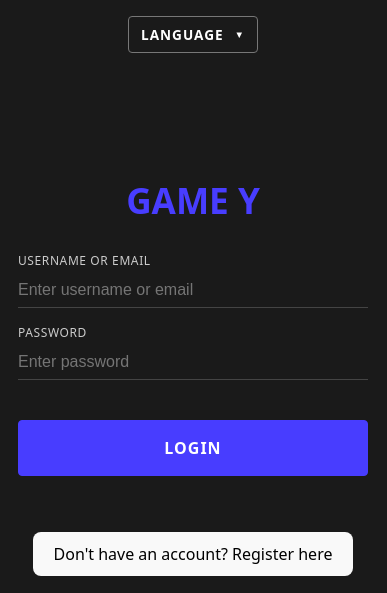
Scenario: RegisterForm › handles server error without specific message
Type "Pablo" into the field labelled "Username or Email" at (193, 291), box [18,273,368,308]
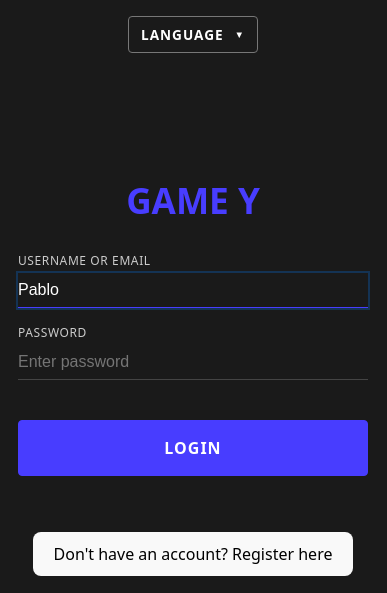
Type "secret" into the password field labelled "Password" at (193, 363), box [18,346,368,380]
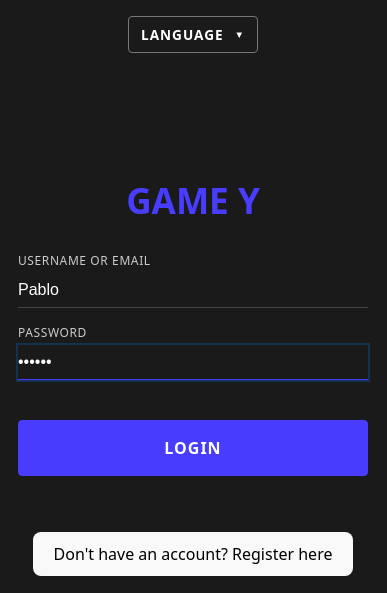
Click the button "LOGIN" at (193, 448), box [18,420,368,476]
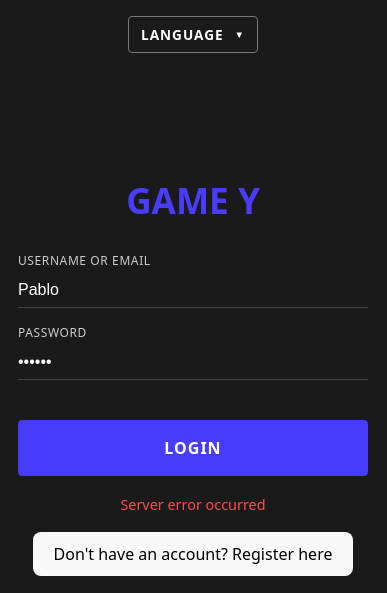
Expected: the text "Server error occurred" is shown, [120,494,266,515]
